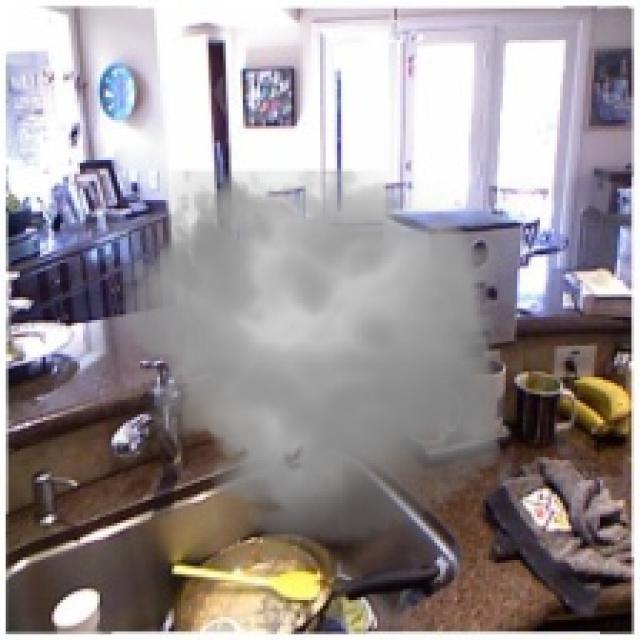Smoke: (106, 152, 523, 557)
